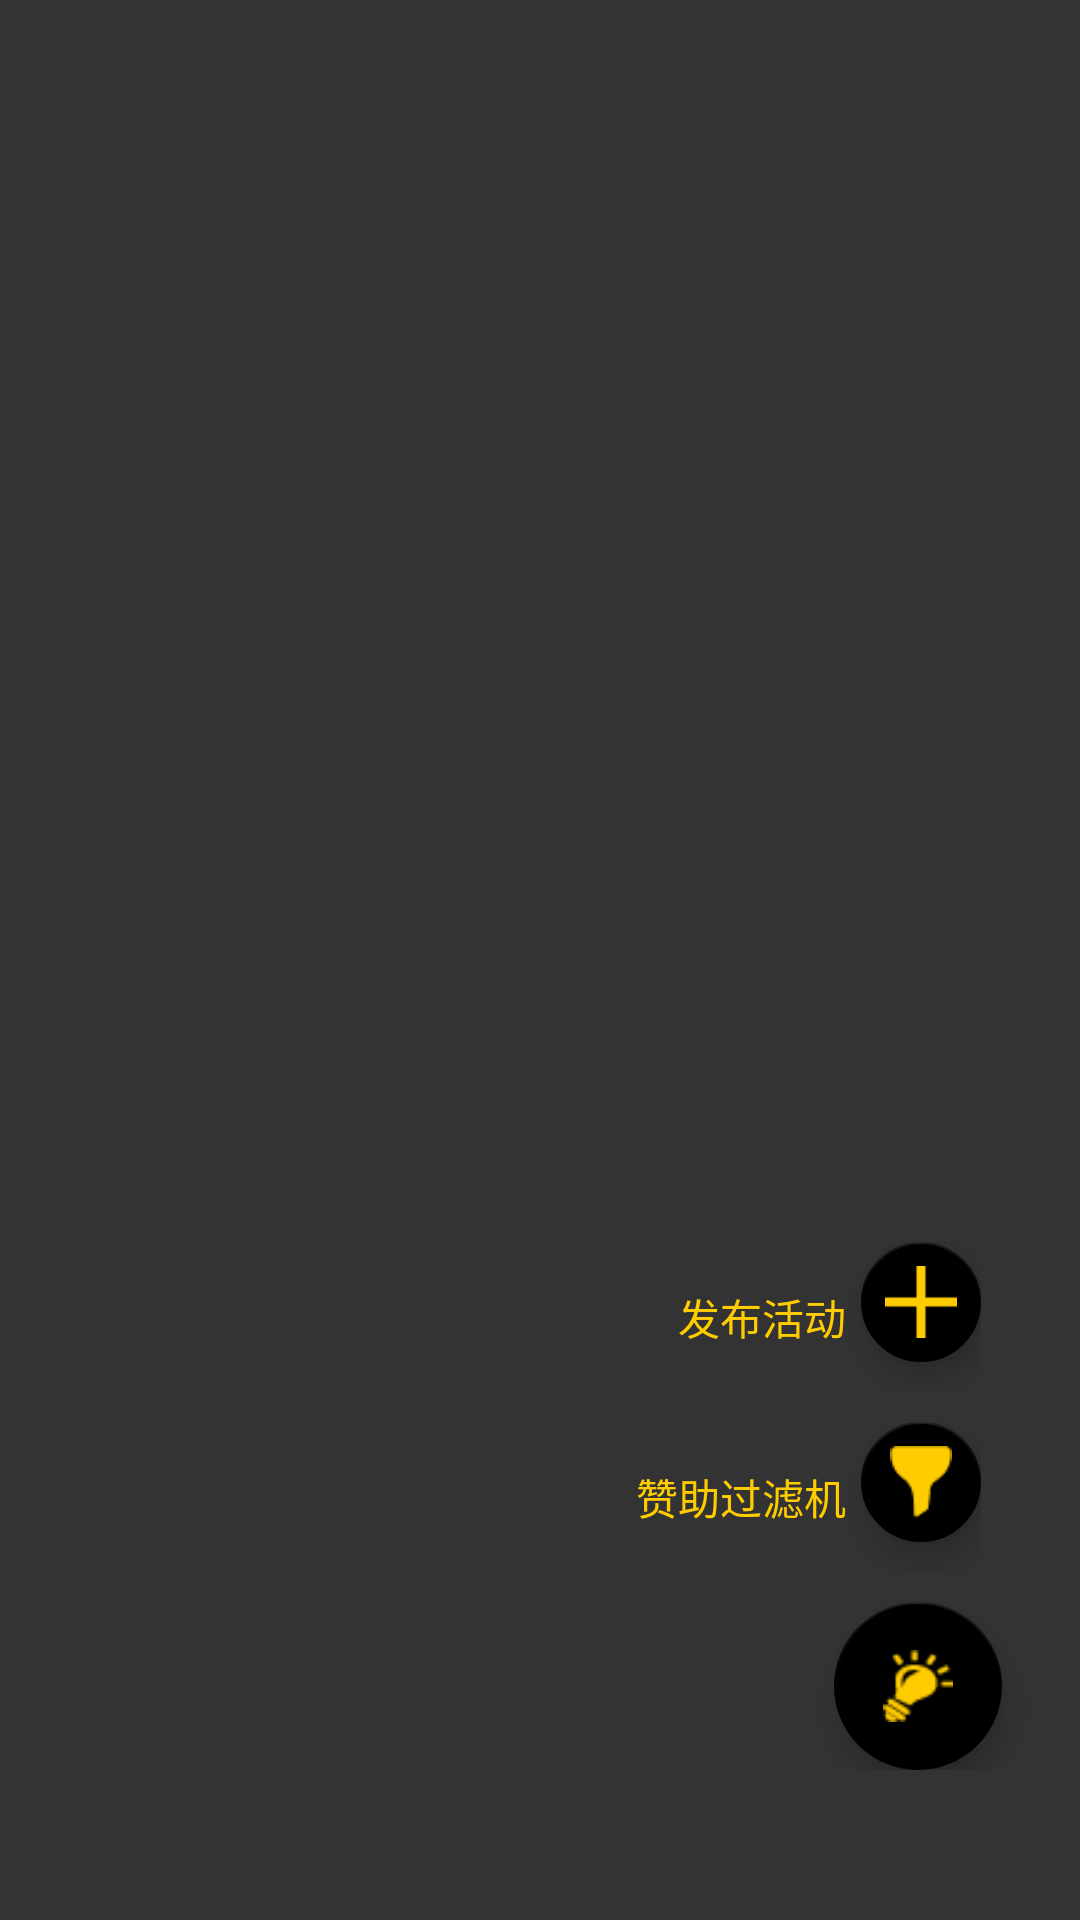

Icon bounding boxes for this 1080w x 1920h phone screenshot, format (x1, y1, x2, y2):
add activity: (861, 1244, 981, 1362)
filter: (861, 1424, 981, 1542)
